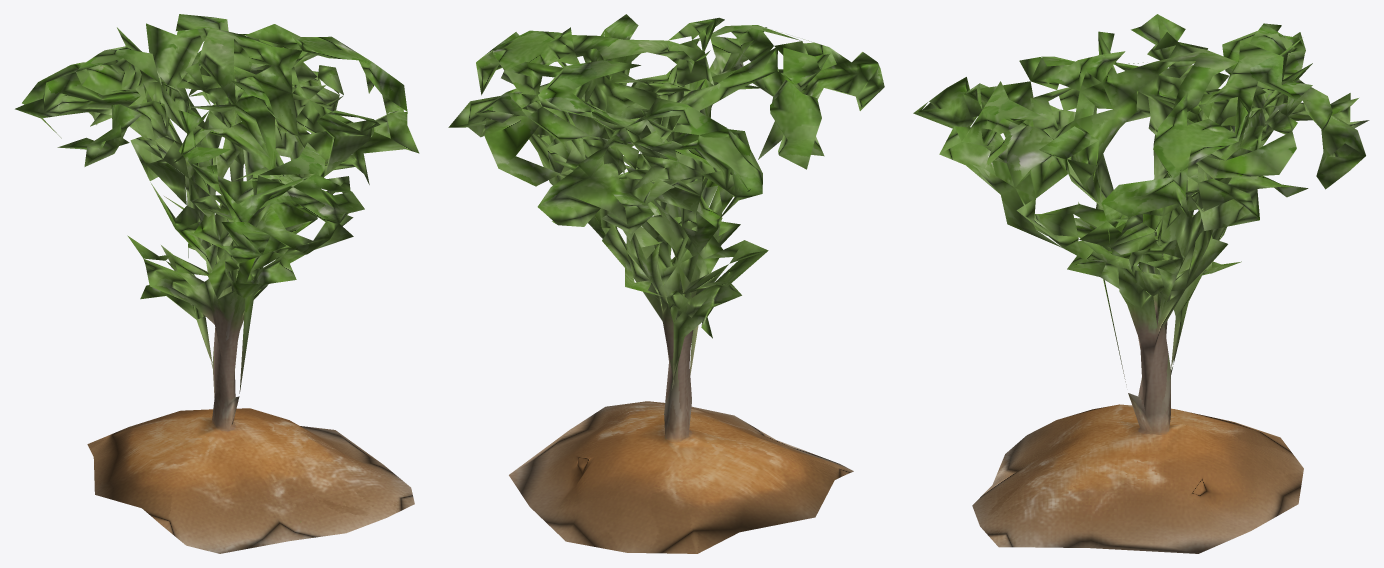
The model's file is bush.glb.
The picture shows the model from 3 angles, left to right: view 1: azimuth 30°, elevation 25°; view 2: azimuth 150°, elevation 25°; view 3: azimuth 270°, elevation 25°; orthographic projection. The views are drawn at different scales.
Parts seen in each view (by area): view 1: geometry_0; view 2: geometry_0; view 3: geometry_0.
Boxes of the visible parts, left/top/right/bottom form: geometry_0: left=15, top=14, right=419, bottom=553; geometry_0: left=448, top=14, right=884, bottom=553; geometry_0: left=913, top=14, right=1369, bottom=553.
Bounding box in the file's own units: 0.7345 × 0.9389 × 0.8674.
Materials: 1 (1 with a texture image).
